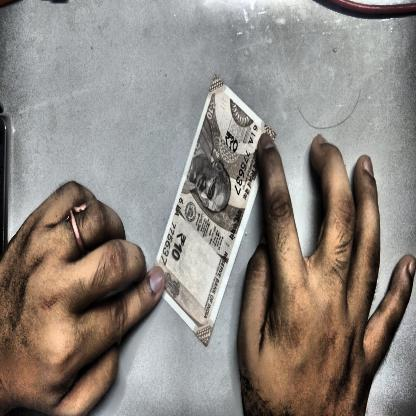Rs10: (169, 227, 189, 267)
